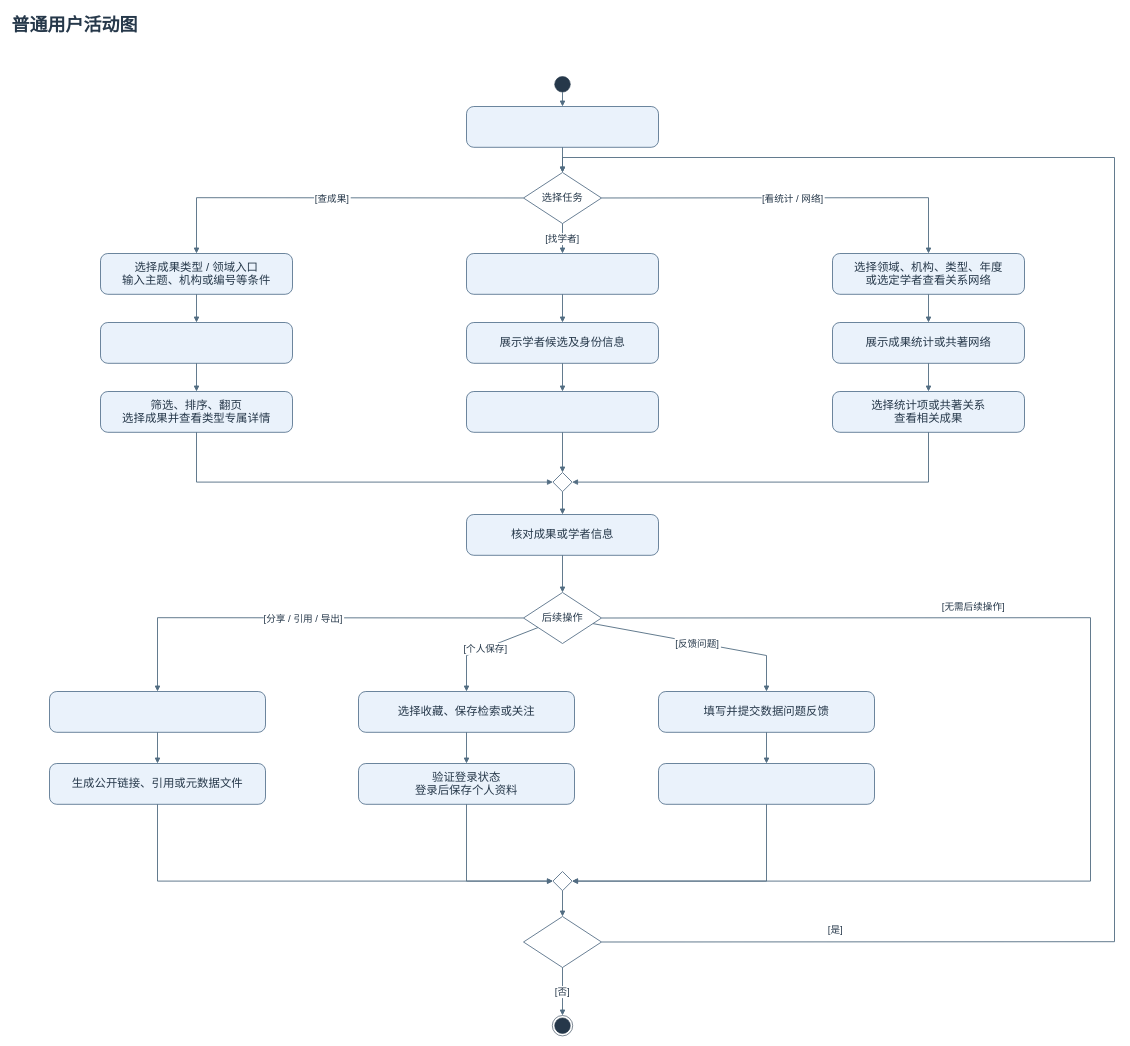
Some shapes in this 1130 by 1046 pixel diagram are drawn without their labels. The shapes that lost their labels are listed below. From the top down, each one's centre as x and y in pixels, then its label:
the point at 562,126: 访问平台
the point at 562,273: 输入姓名、机构、领域 查找目标学者
the point at 196,342: 执行成果查询并展示结果
the point at 562,411: 确认人物并浏览门户 查看 / 筛选四类已收录成果
the point at 157,711: 复制公开链接 或复制引用 / 导出元数据
the point at 766,783: 受理反馈并返回受理号
the point at 562,942: 继续使用？
